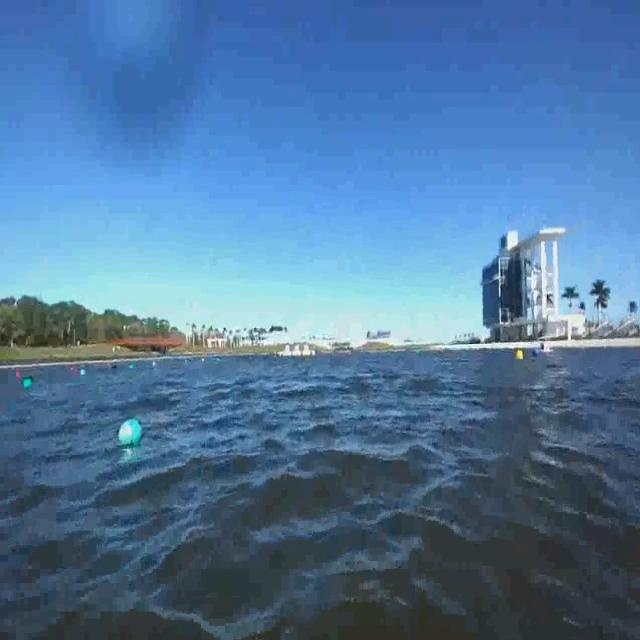green-buoy: (118, 418, 144, 446)
yellow-buoy: (514, 348, 523, 362)
